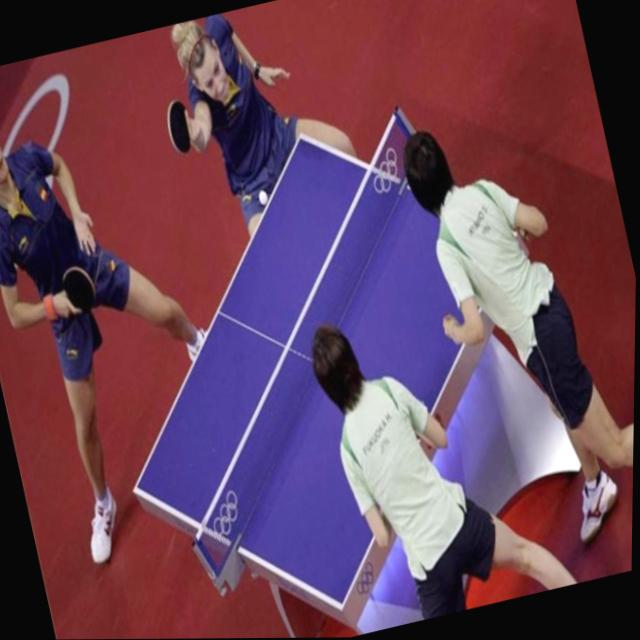TT Net: (185, 100, 437, 606)
TT Racket: (53, 254, 101, 329), (162, 96, 199, 157)
TT Table: (134, 134, 509, 610)
